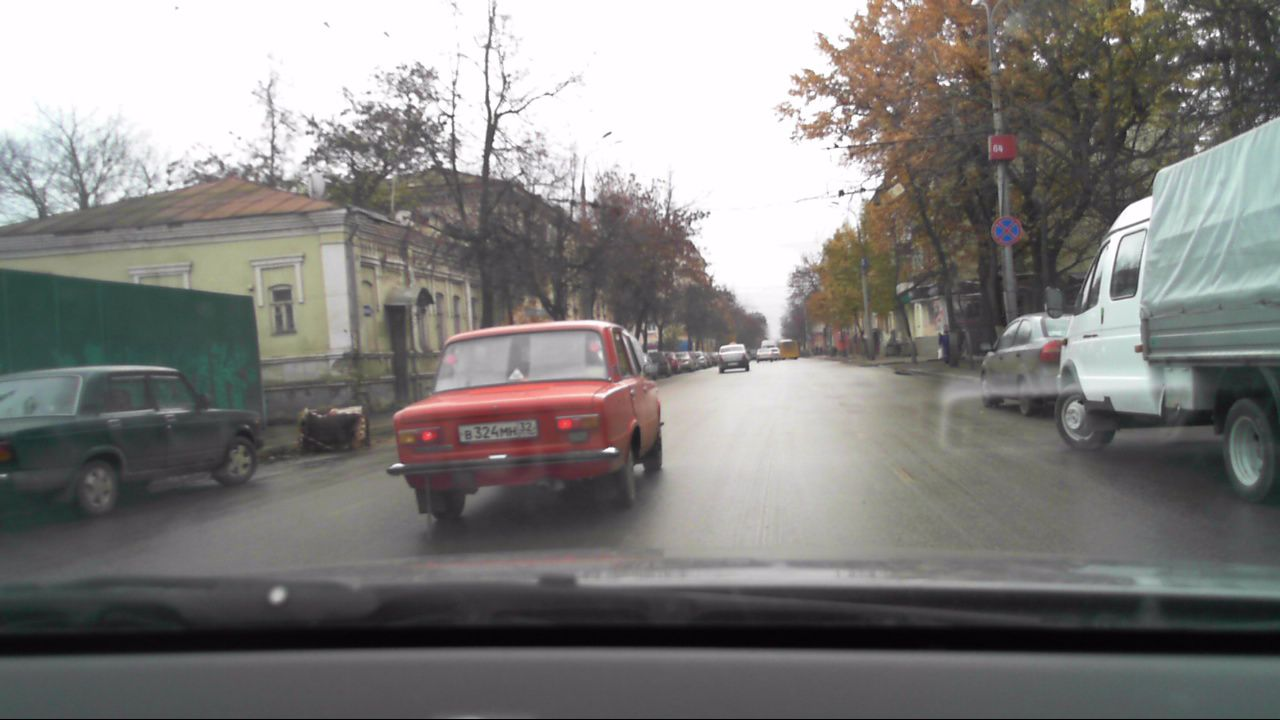No Parking: (988, 213, 1022, 248)
